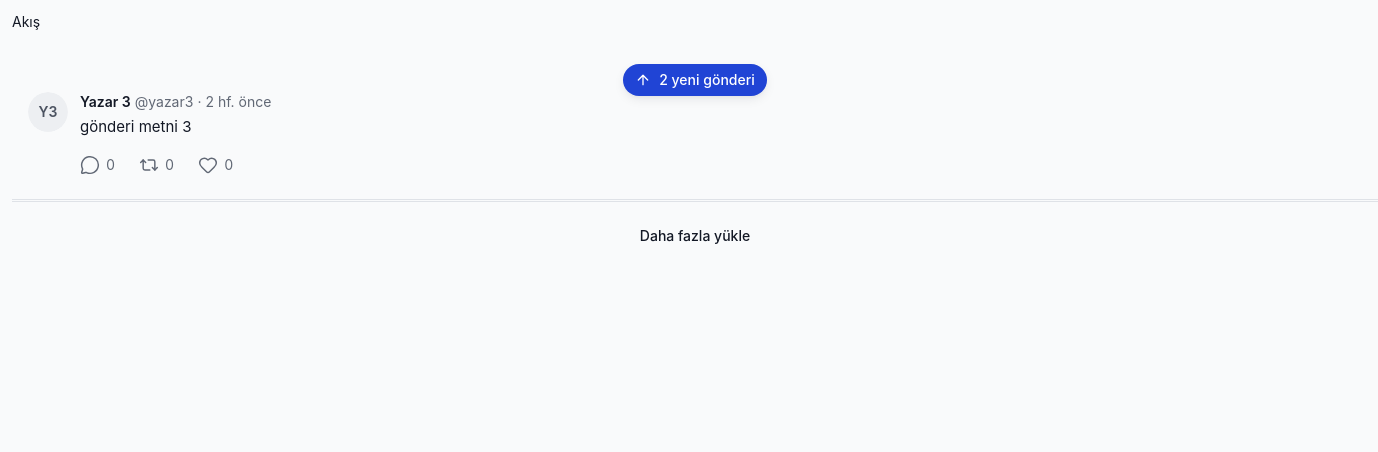
Scenario: FeedList › "N yeni gönderi": yoklama sayıyı gösterir; banda basınca ilk sayfa tazelenir
Click the button with test id "feed-new-posts": (695, 80) [623,64,767,96]
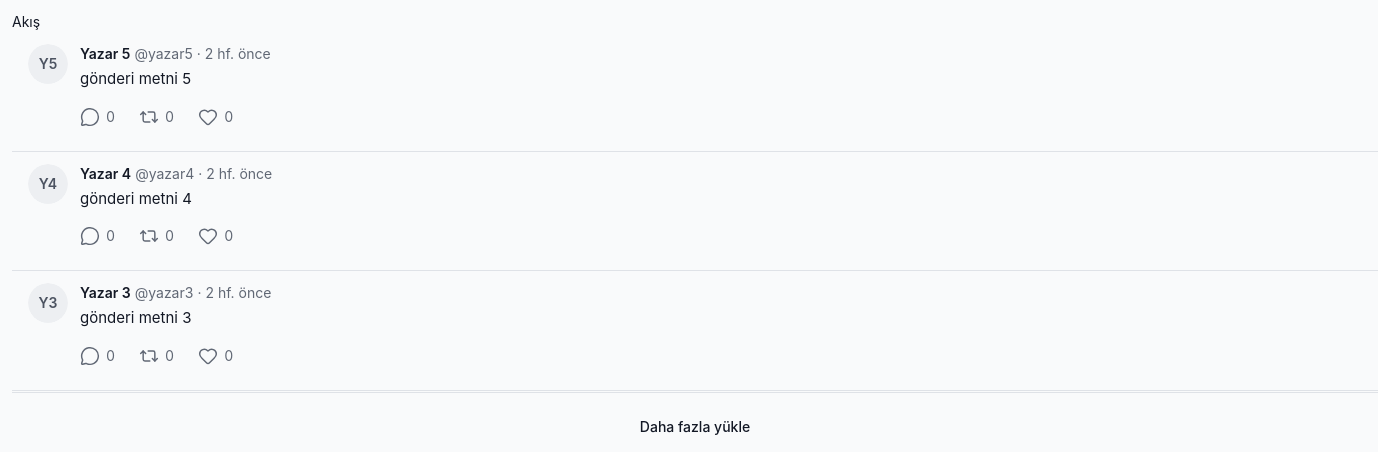
Check: the button with test id "feed-new-posts" is gone
